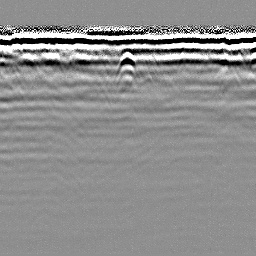cavity: (114, 51, 140, 76)
